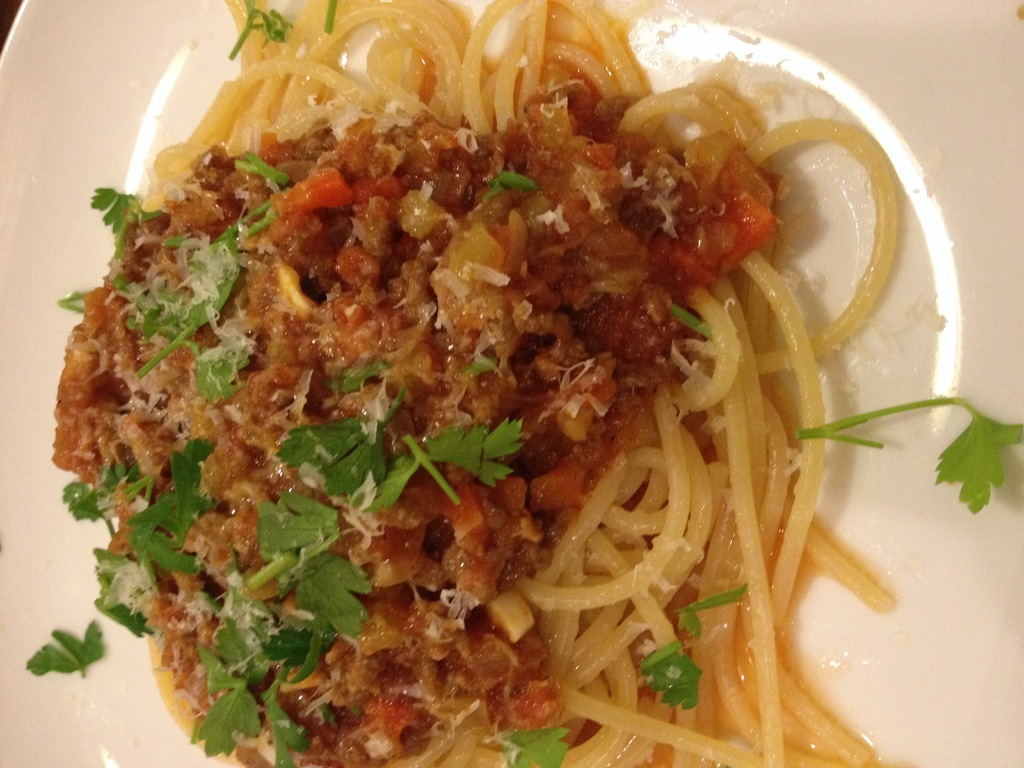pasta: (36, 0, 941, 768)
